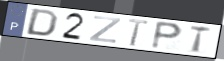2: (61, 12, 87, 41)
D: (24, 8, 60, 38)
P: (149, 20, 185, 51)
T: (188, 25, 213, 55), (127, 18, 150, 48)
Z: (88, 15, 123, 45)
